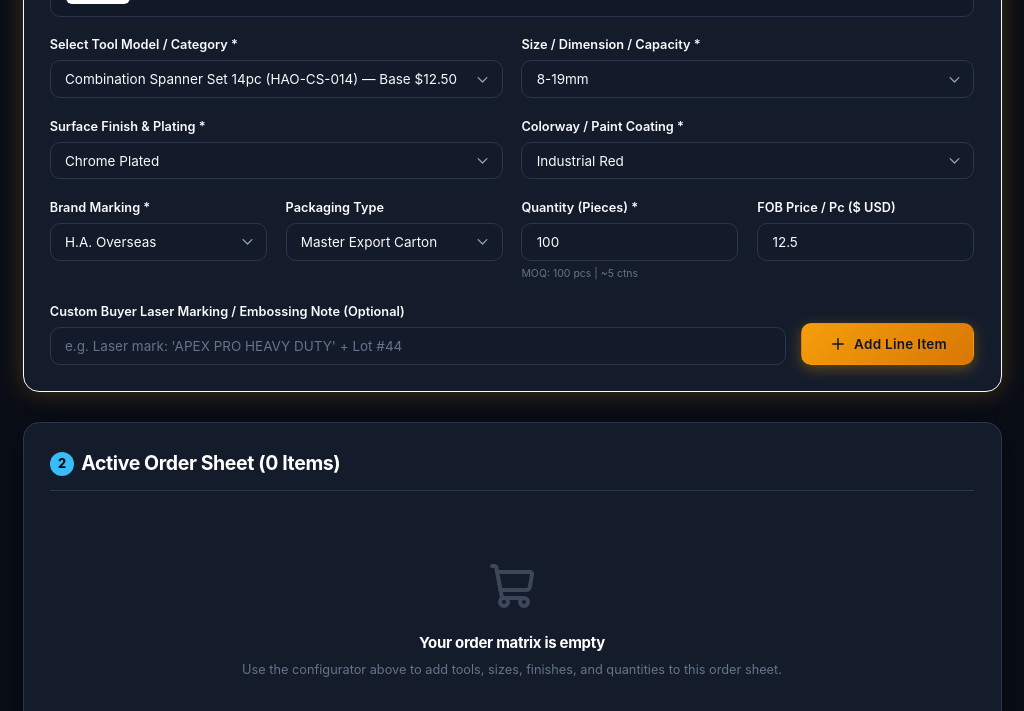
OrderCreatorPage templates (FE-12) › shows the price breakdown drawer with the existing totals figures only
(page scrolled)
Click the button "Add Line Item" at [888, 344], box top-left (801, 322), bottom-right (974, 364)
(page scrolled)
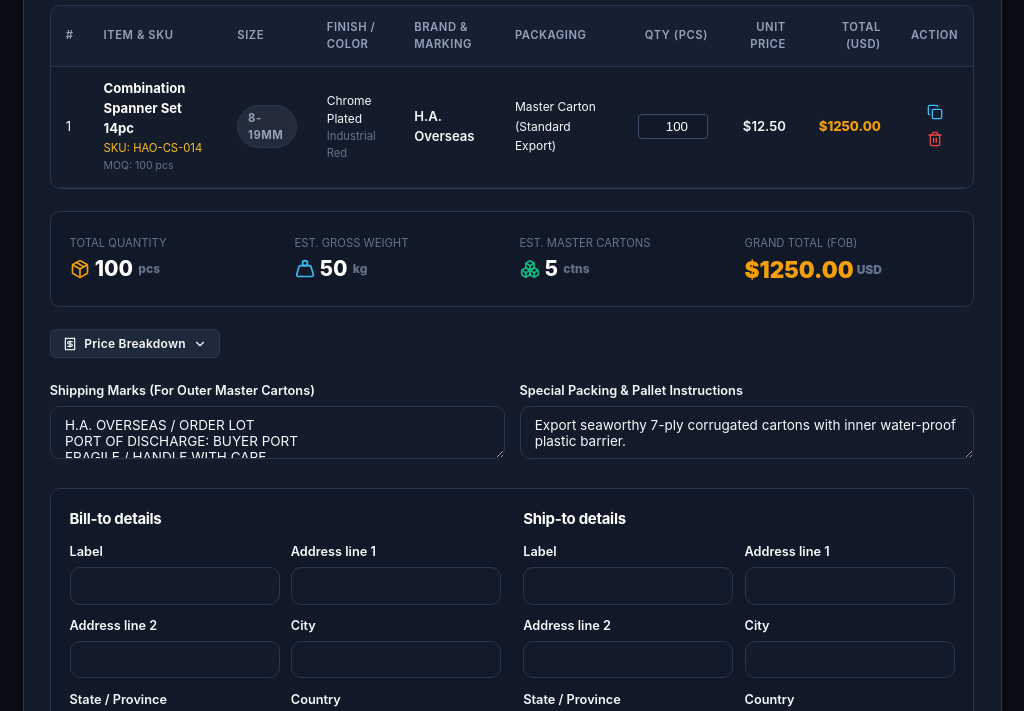
Click the button "Price Breakdown" at [135, 344], box top-left (50, 329), bottom-right (220, 358)
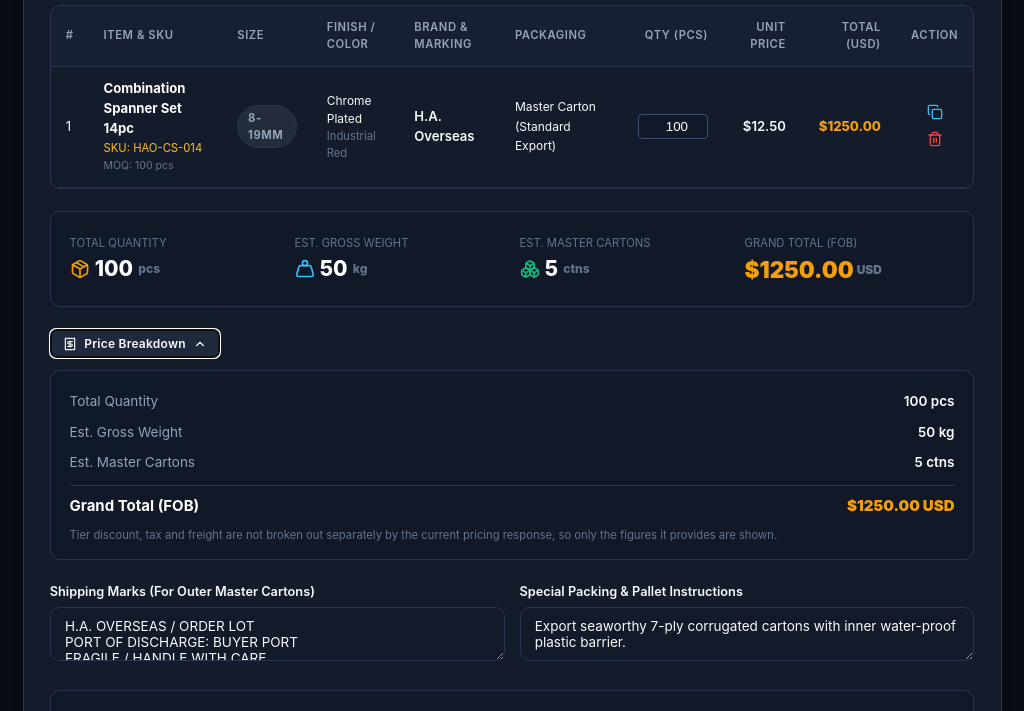
Now the element with test id "price-breakdown" shows "$1250.00", box top-left (847, 496), bottom-right (920, 515)
Now the 2nd text "Grand Total (FOB)" is shown, box top-left (70, 495), bottom-right (199, 518)
